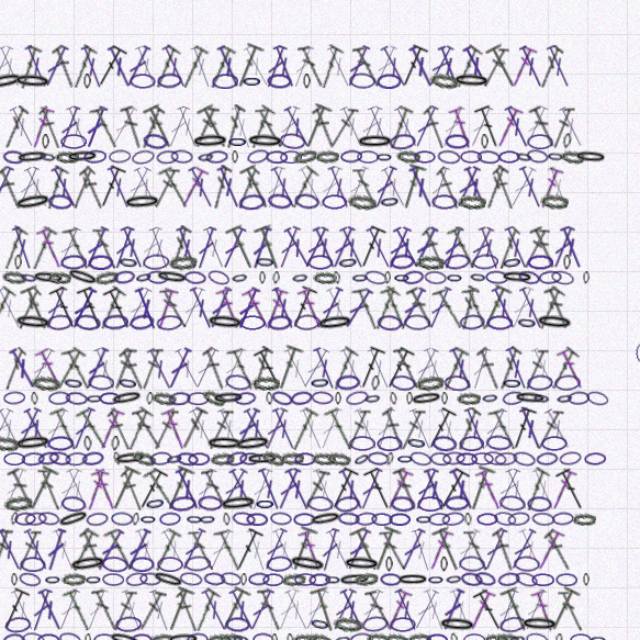chain: (27, 69, 64, 89), (53, 179, 89, 199), (103, 509, 139, 528), (303, 509, 339, 528), (100, 247, 132, 268), (92, 467, 124, 488), (328, 290, 364, 308), (253, 400, 289, 418), (178, 523, 210, 543), (53, 290, 89, 307), (228, 290, 264, 307), (528, 290, 564, 307), (53, 400, 89, 417), (240, 455, 276, 472), (53, 71, 88, 87), (153, 181, 188, 197), (440, 566, 475, 582), (139, 579, 170, 597), (141, 359, 172, 376), (322, 469, 353, 486), (453, 71, 488, 86), (215, 126, 250, 141), (265, 126, 300, 141), (353, 511, 388, 526), (515, 566, 550, 581), (414, 360, 445, 376), (365, 127, 400, 141), (228, 402, 263, 416), (419, 345, 446, 363), (495, 565, 521, 583), (182, 250, 213, 265), (144, 415, 175, 430), (432, 70, 459, 87), (44, 455, 71, 472), (224, 358, 248, 377), (170, 125, 195, 143), (345, 455, 370, 473), (245, 345, 271, 362), (55, 141, 86, 155), (357, 181, 384, 197), (194, 236, 221, 252), (69, 346, 96, 362), (32, 401, 59, 417), (295, 125, 320, 142), (308, 180, 333, 197), (445, 235, 470, 252), (108, 290, 133, 307), (158, 290, 183, 307), (495, 455, 520, 472), (370, 565, 395, 582), (564, 141, 594, 155), (70, 251, 100, 265), (349, 526, 379, 540), (509, 524, 532, 542), (307, 139, 331, 156), (284, 180, 308, 197), (160, 414, 184, 431), (278, 414, 302, 431), (344, 566, 371, 581), (395, 126, 420, 142), (258, 181, 283, 197), (183, 291, 208, 307), (445, 346, 470, 362), (195, 456, 220, 472), (320, 456, 345, 472), (133, 511, 158, 527), (45, 566, 70, 582), (229, 249, 251, 267), (287, 359, 309, 377), (355, 359, 378, 376), (101, 141, 131, 154), (533, 181, 559, 196), (497, 251, 527, 264), (234, 361, 264, 374), (509, 361, 539, 374), (193, 581, 223, 594), (84, 181, 108, 197), (126, 250, 150, 266), (284, 291, 308, 307), (384, 291, 408, 307), (396, 346, 420, 362), (434, 401, 458, 417), (96, 456, 120, 472), (396, 456, 420, 472), (83, 291, 108, 306), (483, 401, 508, 416), (283, 511, 308, 526), (265, 139, 287, 156), (246, 414, 268, 431), (472, 524, 494, 541), (160, 140, 183, 156), (372, 250, 395, 266), (542, 250, 565, 266), (507, 415, 530, 431), (176, 580, 199, 596), (519, 580, 542, 596), (458, 182, 484, 196), (420, 237, 446, 251), (270, 347, 296, 361), (359, 71, 383, 86), (171, 236, 195, 251), (471, 236, 495, 251), (134, 291, 158, 306), (309, 291, 333, 306), (409, 291, 433, 306), (459, 291, 483, 306), (121, 346, 145, 361), (346, 346, 370, 361), (521, 346, 545, 361), (546, 346, 570, 361), (265, 417, 295, 429), (209, 511, 233, 526), (459, 511, 483, 526), (509, 511, 533, 526), (402, 527, 432, 539), (146, 566, 170, 581), (410, 400, 431, 417), (172, 455, 193, 472), (322, 565, 343, 582), (512, 250, 534, 266), (574, 360, 596, 376), (413, 415, 435, 431), (57, 525, 79, 541), (184, 71, 207, 86), (396, 236, 419, 251), (221, 456, 244, 471), (446, 456, 469, 471), (363, 525, 386, 540), (361, 414, 380, 432), (159, 72, 183, 86), (234, 72, 258, 86), (96, 127, 120, 141), (521, 127, 545, 141), (434, 182, 458, 196), (96, 237, 120, 251), (497, 236, 518, 252), (521, 237, 545, 251), (259, 292, 283, 306), (484, 292, 508, 306), (147, 346, 168, 362), (84, 402, 108, 416), (359, 402, 383, 416), (384, 402, 408, 416), (534, 402, 558, 416), (421, 457, 445, 471), (59, 512, 83, 526), (184, 512, 208, 526), (396, 567, 420, 581), (481, 415, 503, 430), (252, 470, 274, 485), (443, 470, 465, 485), (490, 470, 512, 485), (204, 525, 226, 540), (284, 72, 307, 86), (384, 72, 407, 86), (446, 127, 469, 141), (551, 141, 574, 155), (334, 182, 357, 196), (121, 237, 144, 251), (321, 237, 344, 251), (179, 361, 202, 375), (459, 402, 482, 416), (232, 416, 255, 430), (338, 416, 361, 430), (521, 457, 544, 471), (159, 512, 182, 526), (297, 526, 320, 540), (246, 567, 269, 581), (229, 581, 252, 595), (320, 581, 343, 595), (391, 581, 414, 595), (148, 236, 168, 252), (348, 236, 368, 252), (511, 291, 531, 307), (98, 346, 118, 362), (520, 140, 541, 155), (144, 250, 165, 265), (407, 250, 428, 265), (305, 360, 326, 375), (498, 360, 519, 375), (75, 415, 96, 430), (85, 415, 106, 430), (115, 415, 136, 430), (550, 415, 571, 430), (75, 470, 96, 485), (503, 470, 524, 485), (155, 525, 176, 540), (241, 525, 262, 540), (460, 525, 481, 540), (494, 525, 515, 540), (61, 580, 82, 595), (94, 580, 115, 595), (439, 141, 461, 155), (475, 141, 497, 155), (60, 416, 82, 430), (491, 416, 513, 430), (525, 471, 547, 485), (386, 181, 406, 196), (43, 141, 64, 155), (183, 141, 204, 155), (228, 141, 249, 155), (208, 251, 229, 265), (427, 251, 448, 265), (100, 361, 121, 375), (194, 361, 215, 375), (254, 361, 275, 375), (100, 416, 121, 430), (201, 416, 222, 430), (432, 416, 453, 430), (529, 416, 550, 430), (119, 471, 140, 485), (43, 581, 64, 595), (328, 141, 350, 154), (402, 141, 424, 154), (43, 251, 65, 264), (531, 251, 553, 264), (296, 416, 318, 429), (97, 526, 119, 539), (240, 581, 262, 594), (375, 581, 397, 594), (412, 581, 434, 594), (492, 581, 514, 594), (273, 236, 292, 251), (323, 346, 342, 361), (117, 141, 138, 154), (196, 141, 217, 154), (174, 251, 195, 264), (483, 251, 504, 264), (324, 361, 345, 374), (177, 416, 198, 429), (375, 416, 396, 429), (444, 416, 465, 429), (63, 471, 84, 484), (348, 471, 369, 484), (364, 471, 385, 484), (226, 526, 247, 539), (360, 581, 381, 594), (163, 250, 181, 265), (261, 72, 280, 86), (248, 127, 267, 141), (498, 347, 517, 361), (273, 457, 292, 471), (91, 142, 113, 154), (84, 252, 106, 264), (326, 252, 348, 264), (457, 362, 479, 374), (325, 417, 347, 429), (562, 472, 584, 484), (308, 582, 330, 594), (482, 582, 504, 594), (140, 141, 160, 154), (351, 141, 371, 154), (44, 361, 64, 374), (85, 361, 105, 374), (558, 361, 578, 374), (54, 471, 74, 484), (142, 471, 162, 484), (186, 471, 206, 484), (287, 471, 307, 484), (544, 471, 564, 484), (168, 526, 188, 539), (267, 526, 287, 539), (211, 581, 231, 594), (271, 581, 291, 594), (211, 362, 232, 374), (191, 416, 209, 430), (470, 417, 491, 429), (525, 527, 546, 539), (283, 142, 303, 154), (296, 142, 316, 154), (366, 142, 386, 154), (418, 142, 438, 154), (460, 142, 480, 154), (495, 142, 515, 154), (131, 362, 151, 374), (44, 417, 64, 429), (212, 417, 232, 429), (259, 417, 279, 429), (309, 417, 329, 429), (456, 417, 476, 429), (573, 417, 593, 429), (265, 472, 285, 484), (308, 472, 328, 484), (379, 472, 399, 484), (395, 472, 415, 484), (431, 472, 451, 484), (475, 472, 495, 484), (134, 527, 154, 539), (280, 527, 300, 539), (309, 527, 329, 539), (322, 527, 342, 539), (387, 527, 407, 539), (547, 527, 567, 539), (75, 582, 95, 594), (126, 582, 146, 594), (160, 582, 180, 594), (429, 582, 449, 594), (463, 582, 483, 594), (560, 582, 580, 594), (76, 141, 93, 155), (220, 141, 237, 155), (510, 141, 527, 155), (59, 251, 76, 265), (251, 251, 268, 265), (306, 251, 323, 265), (372, 361, 389, 375), (526, 361, 543, 375), (547, 361, 564, 375), (345, 581, 362, 595), (468, 251, 485, 264), (479, 361, 496, 374), (446, 526, 463, 539), (252, 581, 269, 594), (504, 581, 521, 594), (539, 141, 555, 154), (383, 142, 399, 154), (361, 252, 377, 264), (399, 252, 415, 264), (447, 252, 463, 264), (119, 362, 135, 374), (402, 417, 418, 429), (168, 472, 184, 484), (210, 472, 226, 484), (222, 472, 238, 484), (419, 472, 435, 484), (81, 527, 97, 539), (118, 527, 134, 539), (336, 527, 352, 539), (430, 527, 446, 539), (578, 582, 594, 594), (553, 126, 562, 141), (379, 347, 387, 361), (117, 402, 125, 416), (142, 402, 150, 416), (144, 416, 152, 429), (50, 471, 58, 484), (451, 581, 459, 594), (117, 72, 124, 86), (317, 72, 324, 86), (79, 127, 86, 141), (479, 127, 486, 141), (54, 237, 61, 251), (554, 237, 561, 251), (392, 512, 399, 526), (442, 512, 449, 526), (344, 252, 352, 264), (392, 417, 400, 429), (546, 582, 554, 594), (289, 252, 296, 264), (69, 362, 76, 374), (174, 362, 181, 374), (283, 362, 290, 374), (396, 362, 403, 374), (161, 472, 168, 484), (244, 472, 251, 484), (464, 472, 471, 484), (302, 582, 309, 594), (252, 142, 258, 154), (277, 252, 283, 264), (391, 252, 397, 264), (572, 252, 578, 264), (346, 362, 352, 374), (411, 362, 417, 374), (443, 362, 449, 374), (51, 527, 57, 539), (260, 527, 266, 539), (572, 527, 578, 539), (118, 582, 124, 594), (288, 582, 294, 594)
double: (483, 44, 516, 87), (220, 99, 253, 142), (125, 45, 158, 87), (170, 430, 203, 472), (437, 430, 470, 472), (171, 99, 203, 142), (259, 154, 291, 197), (476, 264, 508, 307), (63, 429, 95, 472), (138, 429, 170, 472), (359, 484, 391, 527), (238, 539, 270, 582), (538, 539, 570, 582), (87, 320, 120, 361), (301, 155, 333, 197), (434, 265, 466, 307), (271, 320, 303, 362), (388, 320, 420, 362), (538, 320, 570, 362), (109, 375, 141, 417), (426, 375, 458, 417), (163, 430, 195, 472), (546, 430, 578, 472), (471, 540, 503, 582), (246, 209, 277, 252), (59, 264, 90, 307), (188, 429, 219, 472), (338, 429, 369, 472), (371, 429, 402, 472), (434, 484, 465, 527), (496, 539, 527, 582), (201, 45, 232, 87), (226, 45, 257, 87), (451, 45, 482, 87), (184, 155, 215, 197), (26, 265, 57, 307), (134, 265, 165, 307), (96, 320, 127, 362), (301, 375, 332, 417), (101, 485, 132, 527), (134, 485, 165, 527), (176, 485, 207, 527), (251, 485, 282, 527), (252, 44, 282, 87), (402, 44, 432, 87), (314, 99, 344, 142), (127, 154, 157, 197), (364, 209, 394, 252), (85, 264, 115, 307), (377, 484, 407, 527), (39, 539, 69, 582), (189, 539, 219, 582), (351, 266, 383, 306), (138, 100, 169, 141), (396, 210, 427, 251), (313, 320, 344, 361), (534, 375, 565, 416), (238, 430, 269, 471), (126, 485, 157, 526), (177, 45, 207, 87), (122, 100, 152, 142), (64, 210, 94, 252), (447, 210, 477, 252), (464, 210, 494, 252), (102, 265, 132, 307), (127, 265, 157, 307), (377, 265, 407, 307), (527, 265, 557, 307), (172, 320, 202, 362), (339, 320, 369, 362), (439, 320, 469, 362), (152, 375, 182, 417), (335, 375, 365, 417), (485, 375, 515, 417), (472, 99, 501, 142), (272, 209, 301, 252), (110, 264, 139, 307), (302, 264, 331, 307), (289, 319, 318, 362), (364, 319, 393, 362), (464, 429, 493, 472), (302, 484, 331, 527), (260, 45, 290, 86), (385, 45, 415, 86), (427, 45, 457, 86), (460, 45, 490, 86), (297, 100, 327, 141), (202, 155, 232, 196), (310, 155, 340, 196), (385, 155, 415, 196), (502, 155, 532, 196), (297, 210, 327, 251), (152, 265, 182, 306), (260, 265, 290, 306), (402, 265, 432, 306), (410, 265, 440, 306), (47, 320, 77, 361), (64, 320, 94, 361), (197, 320, 227, 361), (210, 375, 240, 416), (260, 375, 290, 416), (185, 485, 215, 526), (502, 485, 532, 526), (414, 540, 444, 581), (102, 45, 131, 87), (264, 100, 293, 142), (39, 210, 68, 252), (97, 210, 126, 252), (239, 210, 268, 252), (247, 320, 276, 362), (85, 375, 114, 417), (235, 485, 264, 527), (97, 540, 126, 582), (214, 540, 243, 582), (503, 374, 531, 417), (323, 539, 351, 582), (152, 45, 181, 86), (47, 100, 76, 141), (397, 100, 426, 141), (522, 100, 551, 141), (547, 100, 576, 141), (60, 155, 89, 196), (85, 155, 114, 196), (152, 155, 181, 196), (160, 155, 189, 196), (210, 155, 239, 196), (285, 155, 314, 196), (314, 210, 343, 251), (372, 210, 401, 251), (414, 210, 443, 251), (35, 265, 64, 306), (335, 265, 364, 306), (72, 320, 101, 361), (297, 320, 326, 361), (414, 320, 443, 361), (522, 320, 551, 361), (547, 320, 576, 361), (27, 375, 56, 416), (35, 375, 64, 416), (60, 375, 89, 416), (252, 375, 281, 416), (477, 375, 506, 416), (47, 430, 76, 471), (247, 430, 276, 471), (347, 430, 376, 471), (35, 485, 64, 526), (60, 485, 89, 526), (335, 485, 364, 526), (527, 485, 556, 526), (222, 540, 251, 581), (247, 540, 276, 581), (297, 540, 326, 581), (390, 100, 418, 142), (390, 210, 418, 252), (253, 265, 281, 307), (361, 265, 389, 307), (386, 265, 414, 307), (461, 265, 489, 307), (278, 375, 306, 417), (515, 430, 543, 472), (403, 154, 430, 197), (535, 486, 564, 526), (28, 45, 56, 86), (36, 45, 64, 86), (78, 45, 106, 86), (136, 45, 164, 86), (186, 45, 214, 86), (336, 45, 364, 86), (353, 45, 381, 86), (378, 45, 406, 86), (411, 45, 439, 86), (503, 45, 531, 86), (511, 45, 539, 86), (536, 45, 564, 86), (348, 100, 376, 141), (415, 100, 443, 141), (465, 100, 493, 141), (490, 100, 518, 141), (498, 100, 526, 141), (515, 100, 543, 141), (28, 155, 56, 196), (328, 155, 356, 196), (411, 155, 439, 196), (453, 155, 481, 196), (73, 210, 101, 251), (323, 210, 351, 251), (348, 210, 376, 251), (523, 210, 551, 251), (203, 265, 231, 306), (328, 265, 356, 306), (486, 265, 514, 306), (511, 265, 539, 306), (115, 320, 143, 361), (190, 320, 218, 361), (215, 320, 243, 361), (240, 320, 268, 361), (348, 320, 376, 361), (53, 375, 81, 416), (78, 375, 106, 416), (203, 375, 231, 416), (236, 375, 264, 416), (286, 375, 314, 416), (311, 375, 339, 416), (361, 375, 389, 416), (40, 430, 68, 471), (90, 430, 118, 471), (98, 430, 126, 471), (198, 430, 226, 471), (290, 430, 318, 471), (298, 430, 326, 471), (390, 430, 418, 471), (415, 430, 443, 471), (448, 430, 476, 471), (473, 430, 501, 471), (490, 430, 518, 471), (498, 430, 526, 471), (153, 485, 181, 526), (203, 485, 231, 526), (228, 485, 256, 526), (286, 485, 314, 526), (353, 485, 381, 526), (403, 485, 431, 526), (453, 485, 481, 526), (478, 485, 506, 526), (511, 485, 539, 526), (48, 540, 76, 581), (73, 540, 101, 581), (265, 540, 293, 581), (315, 540, 343, 581), (340, 540, 368, 581), (348, 540, 376, 581), (365, 540, 393, 581), (465, 540, 493, 581), (53, 45, 80, 87), (328, 45, 355, 87), (115, 100, 142, 142), (78, 155, 105, 197), (161, 265, 188, 307), (40, 101, 68, 141), (161, 376, 189, 416), (165, 541, 193, 581), (61, 45, 88, 86), (161, 45, 188, 86), (236, 45, 263, 86), (98, 100, 125, 141), (190, 100, 217, 141), (365, 100, 392, 141), (373, 100, 400, 141), (440, 100, 467, 141), (53, 155, 80, 196), (136, 155, 163, 196), (236, 155, 263, 196), (378, 155, 405, 196), (461, 155, 488, 196), (511, 155, 538, 196), (90, 210, 117, 251), (115, 210, 142, 251), (148, 210, 175, 251), (165, 210, 192, 251), (223, 210, 250, 251), (340, 210, 367, 251), (498, 210, 525, 251), (548, 210, 575, 251), (78, 265, 105, 306), (211, 265, 238, 306), (228, 265, 255, 306), (286, 265, 313, 306), (311, 265, 338, 306), (428, 265, 455, 306), (503, 265, 530, 306), (536, 265, 563, 306), (123, 320, 150, 361), (373, 320, 400, 361), (448, 320, 475, 361), (128, 375, 155, 416), (411, 375, 438, 416), (461, 375, 488, 416), (511, 375, 538, 416), (123, 430, 150, 471), (273, 430, 300, 471), (323, 430, 350, 471), (365, 430, 392, 471), (398, 430, 425, 471), (523, 430, 550, 471), (540, 430, 567, 471), (86, 485, 113, 526), (161, 485, 188, 526), (278, 485, 305, 526), (428, 485, 455, 526), (90, 540, 117, 581), (290, 540, 317, 581), (390, 540, 417, 581), (398, 540, 425, 581), (440, 540, 467, 581), (448, 540, 475, 581), (515, 540, 542, 581), (112, 45, 138, 87), (279, 45, 305, 87), (304, 45, 330, 87), (437, 45, 463, 87), (91, 100, 117, 142), (340, 101, 368, 140), (529, 155, 555, 197), (537, 155, 563, 197), (437, 375, 463, 417), (266, 430, 292, 472), (424, 430, 450, 472), (528, 46, 555, 86), (165, 101, 192, 141), (273, 101, 300, 141), (148, 321, 175, 361), (453, 376, 480, 416), (528, 376, 555, 416), (315, 431, 342, 471), (386, 486, 413, 526), (373, 541, 400, 581), (287, 45, 313, 86), (199, 100, 225, 141), (291, 100, 317, 141), (337, 155, 363, 196), (354, 155, 380, 196), (479, 155, 505, 196), (291, 210, 317, 251), (541, 210, 567, 251), (237, 265, 263, 306), (324, 320, 350, 361), (424, 320, 450, 361), (491, 320, 517, 361), (499, 320, 525, 361), (104, 375, 130, 416), (187, 375, 213, 416), (329, 375, 355, 416), (112, 485, 138, 526), (116, 540, 142, 581), (424, 540, 450, 581), (186, 266, 213, 305), (212, 45, 237, 87), (66, 100, 91, 142), (249, 100, 274, 142), (449, 100, 474, 142), (429, 155, 454, 197), (49, 210, 74, 252), (141, 210, 166, 252), (174, 210, 199, 252), (199, 210, 224, 252), (216, 210, 241, 252), (441, 210, 466, 252), (474, 210, 499, 252), (279, 265, 304, 307), (116, 430, 141, 472), (216, 430, 241, 472), (312, 485, 337, 527), (66, 540, 91, 582), (149, 540, 174, 582), (174, 540, 199, 582), (491, 540, 516, 582), (524, 540, 549, 582), (362, 46, 388, 86), (479, 46, 505, 86), (37, 156, 63, 196), (112, 156, 138, 196), (179, 156, 205, 196), (516, 211, 542, 251), (54, 266, 80, 306), (137, 376, 163, 416), (224, 431, 250, 471), (212, 486, 238, 526), (87, 45, 112, 86), (312, 45, 337, 86), (216, 100, 241, 141), (324, 100, 349, 141), (224, 320, 249, 361), (399, 320, 424, 361), (474, 320, 499, 361), (124, 540, 149, 581), (150, 100, 174, 142), (280, 155, 304, 197), (267, 210, 291, 252), (180, 265, 204, 307), (467, 320, 491, 362), (380, 375, 404, 417), (80, 485, 104, 527), (263, 485, 287, 527), (413, 485, 437, 527), (104, 156, 129, 196), (254, 156, 279, 196), (362, 156, 387, 196), (437, 156, 462, 196), (424, 211, 449, 251), (179, 376, 204, 416), (229, 376, 254, 416), (404, 376, 429, 416), (149, 431, 174, 471), (549, 541, 574, 581), (192, 210, 216, 251), (142, 320, 166, 361), (388, 375, 412, 416), (488, 485, 512, 526), (330, 485, 353, 527), (75, 101, 99, 141), (425, 101, 449, 141), (488, 156, 512, 196), (125, 211, 149, 251), (492, 211, 516, 251), (42, 321, 66, 361), (517, 321, 541, 361), (355, 376, 379, 416), (55, 486, 79, 526), (463, 486, 487, 526), (142, 541, 166, 581), (200, 541, 224, 581), (242, 100, 265, 141), (230, 155, 253, 196), (267, 320, 290, 361), (75, 430, 98, 471), (275, 540, 298, 581), (542, 101, 565, 141), (456, 265, 478, 306), (168, 320, 190, 361), (31, 485, 53, 526)
noise: (0, 171, 40, 188), (617, 312, 640, 341), (7, 565, 29, 587), (2, 250, 23, 271)
